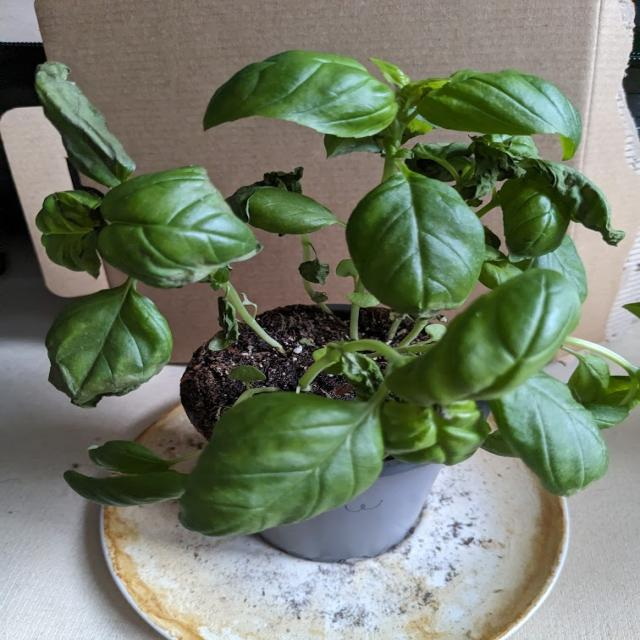dark: (480, 138, 632, 244), (31, 64, 140, 183), (56, 352, 180, 408), (341, 355, 386, 401), (324, 135, 393, 158), (212, 305, 238, 353), (269, 159, 301, 190), (300, 261, 326, 287)
healthy: (180, 401, 386, 532), (394, 276, 578, 402), (204, 57, 396, 141), (362, 179, 476, 320), (488, 381, 606, 503), (424, 72, 586, 121), (59, 464, 197, 504), (392, 411, 481, 460), (44, 192, 94, 278), (245, 192, 338, 230), (86, 435, 163, 467)
